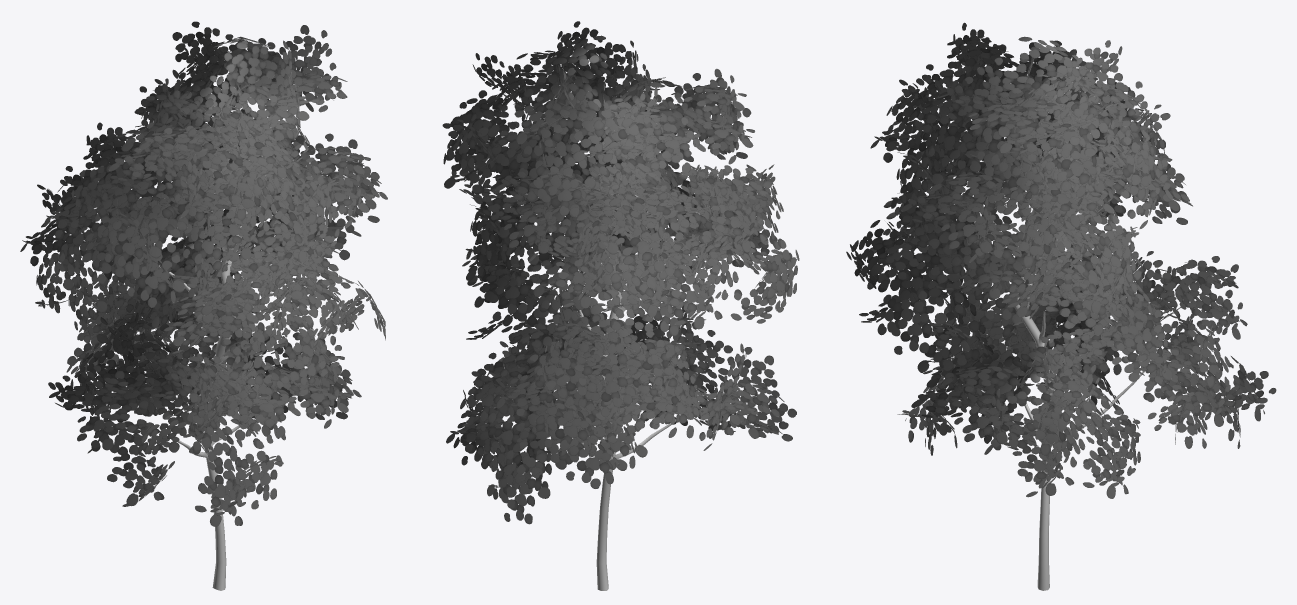
Rendered from SM_Bush_07.fbx.
3 renders of one model, left to right at view 1: azimuth 30°, elevation 25°; view 2: azimuth 150°, elevation 25°; view 3: azimuth 270°, elevation 25°, orthographic. The views are drawn at different scales.
Parts seen in each view (by area): view 1: SM_Bush_07_LOD0; view 2: SM_Bush_07_LOD0; view 3: SM_Bush_07_LOD0.
Boxes of the visible parts, left/top/right/bottom form: SM_Bush_07_LOD0: left=20, top=21, right=387, bottom=590; SM_Bush_07_LOD0: left=442, top=21, right=799, bottom=590; SM_Bush_07_LOD0: left=846, top=22, right=1276, bottom=590.
Size of what is drawn, in the model's own units: 2.29 by 3.46 by 2.49.
